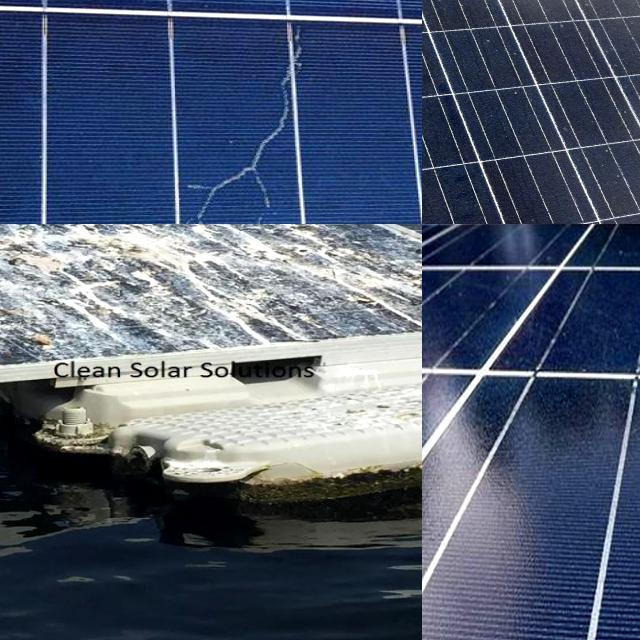bird: (39, 224, 184, 319), (0, 229, 62, 316), (226, 232, 334, 280)
crack: (422, 224, 640, 640)
dust: (452, 57, 640, 224), (422, 0, 567, 102), (422, 45, 516, 185), (422, 0, 522, 87)
shadow: (8, 33, 314, 224)
